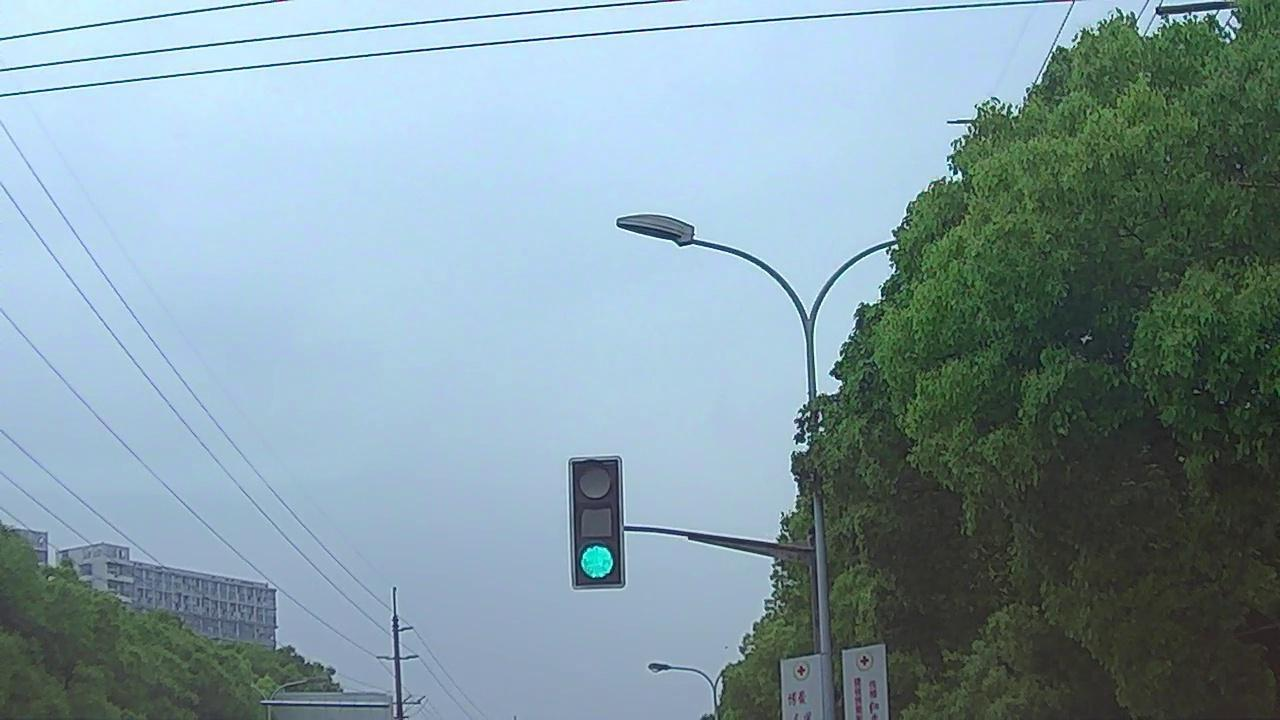traffic_light: (572, 458, 625, 587)
